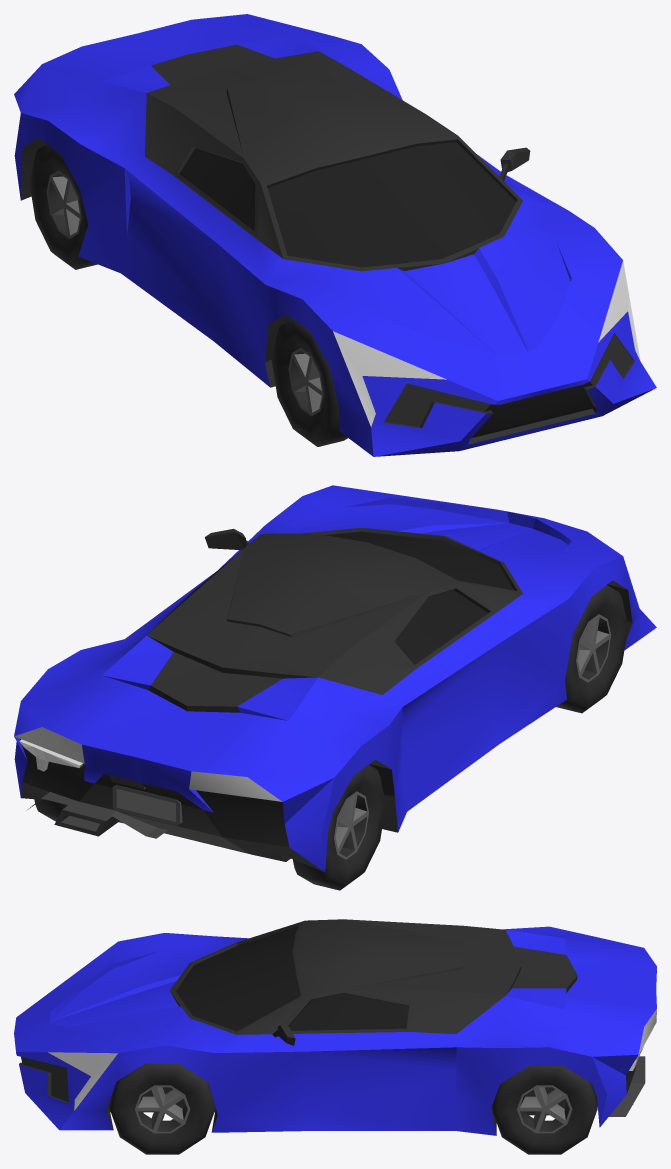
Rendered from fenyr.fbx.
3 views of the same model, one above another, from view 1: azimuth 30°, elevation 25°; view 2: azimuth 150°, elevation 25°; view 3: azimuth 270°, elevation 25° (orthographic). The views are drawn at different scales.
Parts seen in each view (by area): view 1: fenyr, wheels.020, wheels.021; view 2: fenyr, wheels.021, wheels.020; view 3: fenyr, wheels.030, wheels.031.
Part boxes in pixels (x1,y1,x2,y2): fenyr: (14,14,656,456); wheels.020: (271,319,347,446); wheels.021: (29,144,97,269); fenyr: (14,485,656,871); wheels.021: (292,764,385,890); wheels.020: (556,585,627,713); fenyr: (14,919,656,1135); wheels.030: (109,1063,215,1154); wheels.031: (492,1066,597,1154).
Size of the model in its own units: 222 by 130 by 488.
